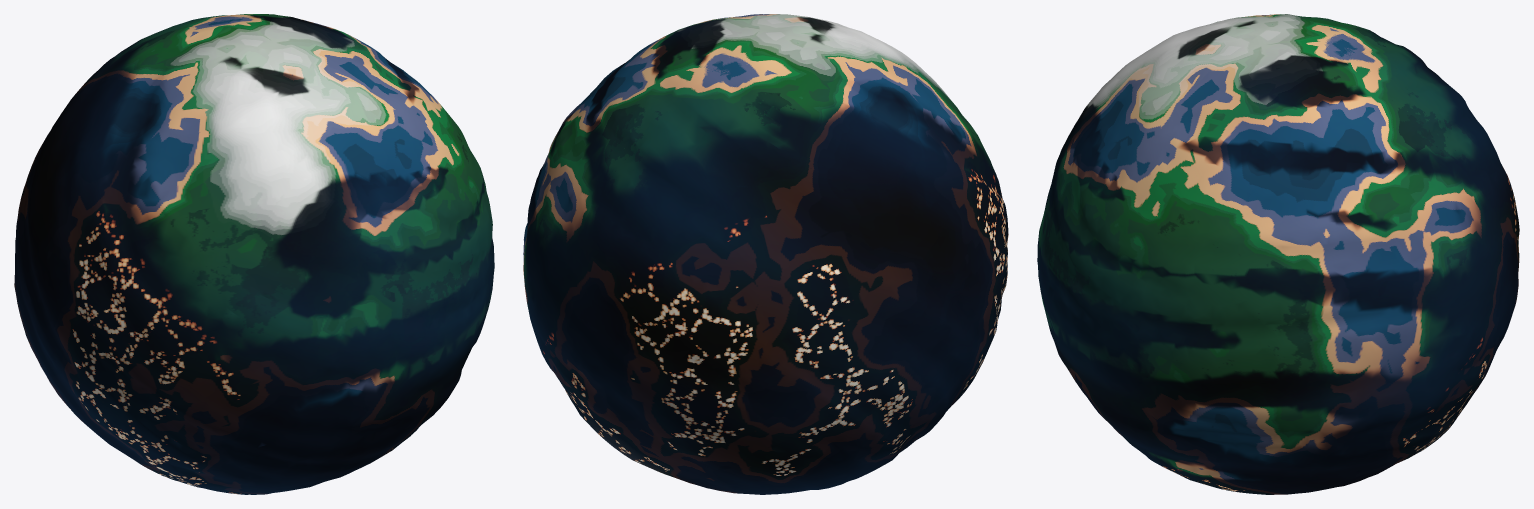
Rendered from planet1.glb.
3 views of the same model, side by side, from view 1: azimuth 30°, elevation 25°; view 2: azimuth 150°, elevation 25°; view 3: azimuth 270°, elevation 25° (orthographic).
Visible parts, largest first — view 1: Planet; view 2: Planet; view 3: Planet.
Part boxes in pixels (x1,y1,x2,y2): Planet: (14,14,494,494); Planet: (523,14,1008,494); Planet: (1037,14,1519,494).
Size of the model in its own units: 1.32 by 1.32 by 1.32.
1 material, 1 textured.
